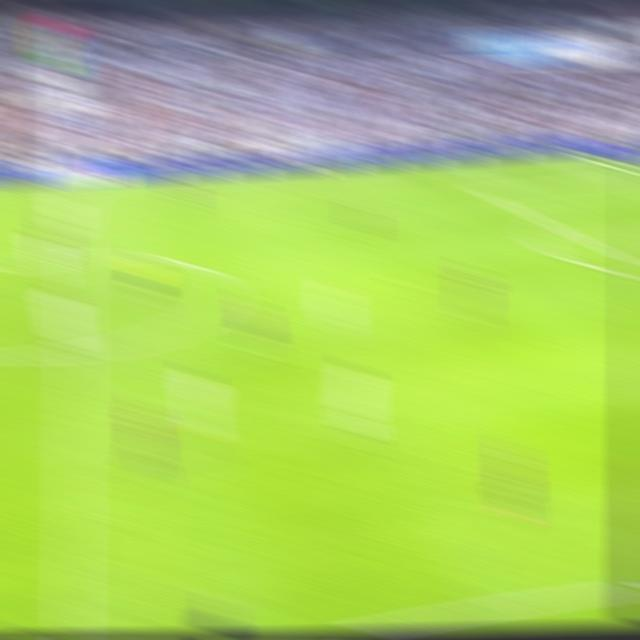bigarea_bottom_outter: (537, 213, 562, 233)
bigarea_top_inner: (474, 183, 497, 200)
halfcircle_bottom: (60, 334, 90, 368)
halfcircle_top: (62, 243, 88, 269)
midline_top_intersection: (63, 178, 88, 196)
